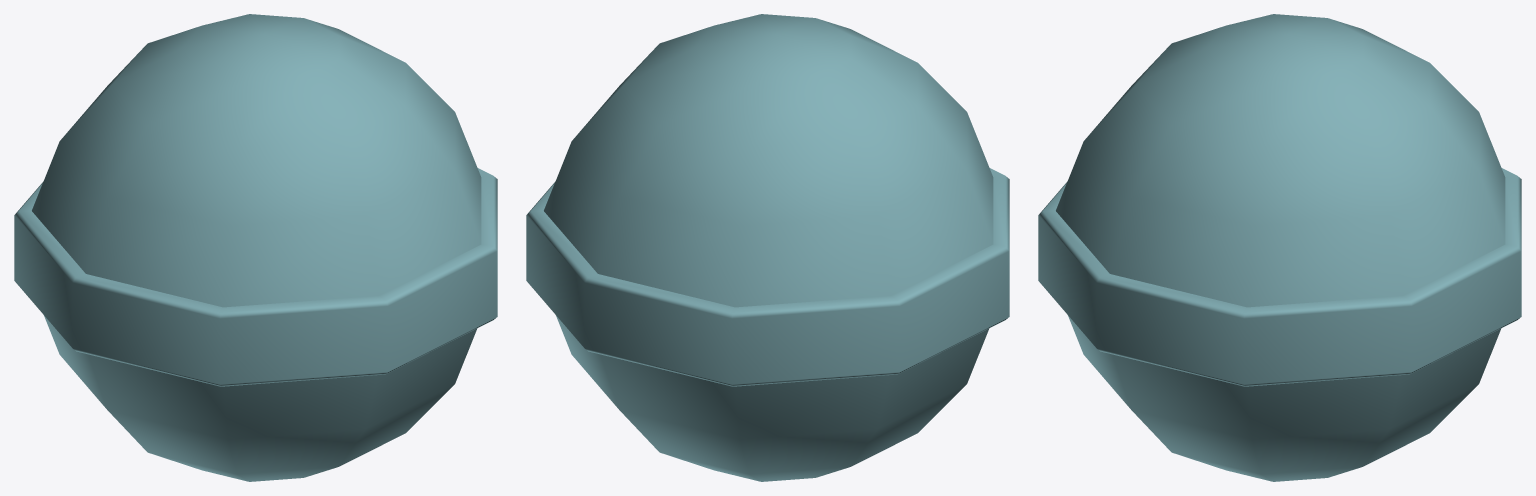
File: table_teleport_oblect_2.fbx
3 renders of one model, left to right at view 1: azimuth 30°, elevation 25°; view 2: azimuth 150°, elevation 25°; view 3: azimuth 270°, elevation 25°, orthographic.
Visible parts, largest first — view 1: table_teleport_oblect_2; view 2: table_teleport_oblect_2; view 3: table_teleport_oblect_2.
Part boxes in pixels (x1,y1,x2,y2): table_teleport_oblect_2: (14, 14, 497, 481); table_teleport_oblect_2: (526, 14, 1009, 481); table_teleport_oblect_2: (1038, 14, 1521, 481).
Size of the model in its own units: 18.81 by 18.05 by 18.53.
